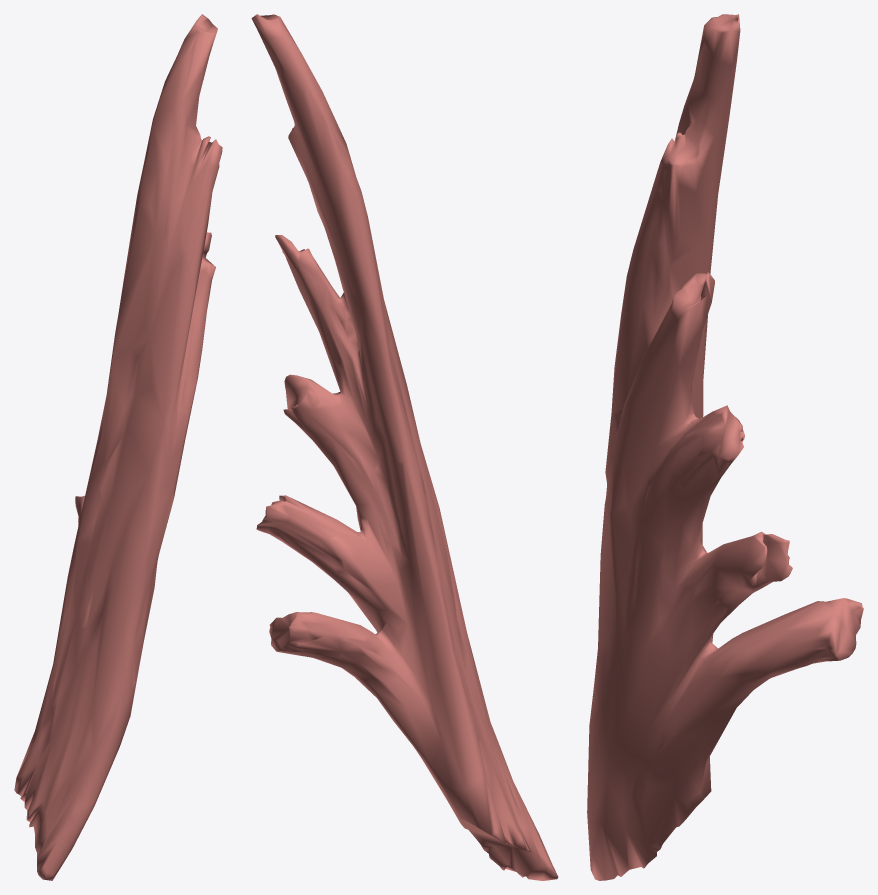
3 views of the same model, side by side, from view 1: azimuth 30°, elevation 25°; view 2: azimuth 150°, elevation 25°; view 3: azimuth 270°, elevation 25° (orthographic). The views are drawn at different scales.
Visible parts, largest first — view 1: ZA_95c403a6df62d190; view 2: ZA_95c403a6df62d190; view 3: ZA_95c403a6df62d190.
Part boxes in pixels (bbox=[...]): ZA_95c403a6df62d190: bbox=[14, 14, 222, 880]; ZA_95c403a6df62d190: bbox=[251, 14, 558, 880]; ZA_95c403a6df62d190: bbox=[587, 14, 863, 880].
Size of the model in its own units: 0.0302 by 0.0992 by 0.025.
